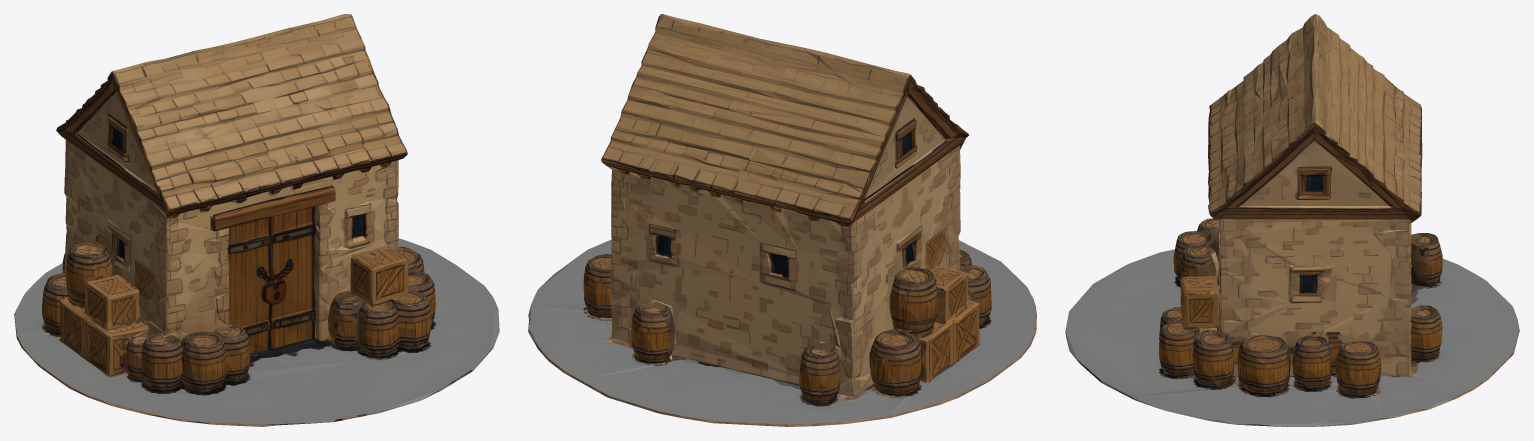
Rendered from storehouse.glb.
The picture shows the model from 3 angles, left to right: view 1: azimuth 30°, elevation 25°; view 2: azimuth 150°, elevation 25°; view 3: azimuth 270°, elevation 25°; orthographic projection. The views are drawn at different scales.
Visible parts, largest first — view 1: textured_mesh.obj; view 2: textured_mesh.obj; view 3: textured_mesh.obj.
Part boxes in pixels (box(x1,y1,x2,y2)): textured_mesh.obj: box(14, 14, 499, 426); textured_mesh.obj: box(528, 14, 1036, 426); textured_mesh.obj: box(1065, 14, 1519, 426).
Size of the model in its own units: 1.96 by 1.25 by 1.98.
1 material, 1 textured.
